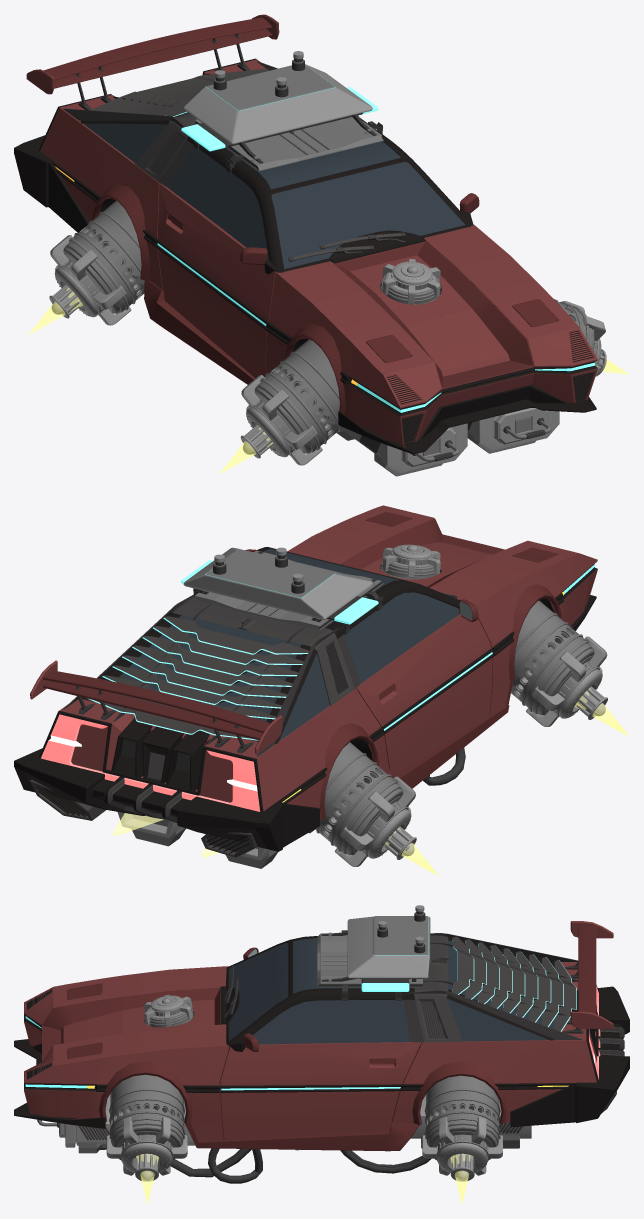
3 views of the same model, one above another, from view 1: azimuth 30°, elevation 25°; view 2: azimuth 150°, elevation 25°; view 3: azimuth 270°, elevation 25° (orthographic). The views are drawn at different scales.
Visible parts, largest first — view 1: pCube69, pCube63, pCylinder76, pCube152, pCylinder77, pPlane3, pCube394, pCube395, pCube148, pCube391, pCube81, pCylinder152 (+17 smaller); view 2: pCube69, pCube391, pCylinder76, pCylinder77, pCube152, pPlane3, pCube63, pCube255, pCube395, pPlane9, pCube390, pCube81 (+25 smaller); view 3: pCube69, pCube63, pPlane3, pCylinder74, pCylinder75, pCube395, pCube391, pCube152, pCylinder152, pPlane9, pCube396, pCube397 (+25 smaller).
Part boxes in pixels (x1,y1,x2,y2): pCube69: (40, 59, 597, 447); pCube63: (80, 112, 471, 272); pCylinder76: (240, 339, 342, 465); pCube152: (183, 64, 372, 144); pCylinder77: (49, 200, 144, 325); pPlane3: (158, 136, 271, 262); pCube394: (336, 408, 559, 476); pCube395: (144, 280, 272, 384); pCube148: (194, 117, 383, 171); pCube391: (14, 135, 88, 232); pCube81: (43, 17, 272, 80); pCylinder152: (92, 184, 345, 414); pCube69: (50, 505, 597, 819); pCube391: (14, 748, 319, 851); pCylinder76: (511, 600, 607, 726); pCylinder77: (315, 742, 416, 866); pCube152: (183, 547, 372, 619); pPlane3: (336, 587, 459, 688); pCube63: (82, 547, 459, 744); pCube255: (111, 717, 209, 790); pCube395: (385, 679, 513, 788); pPlane9: (172, 596, 354, 705); pCube390: (41, 714, 260, 811); pCube81: (43, 670, 270, 733); pCube69: (24, 962, 596, 1122); pCube63: (226, 936, 554, 1044); pPlane3: (240, 996, 423, 1044); pCylinder74: (106, 1074, 187, 1181); pCylinder75: (422, 1075, 502, 1181); pCube395: (185, 1122, 419, 1151); pCube391: (510, 986, 629, 1127); pCube152: (347, 916, 430, 978); pCylinder152: (99, 1061, 506, 1125); pPlane9: (414, 935, 462, 1042); pCube396: (96, 1083, 575, 1092); pCube397: (405, 933, 582, 1039).
Size of the model in its own units: 124 by 87.95 by 195.
